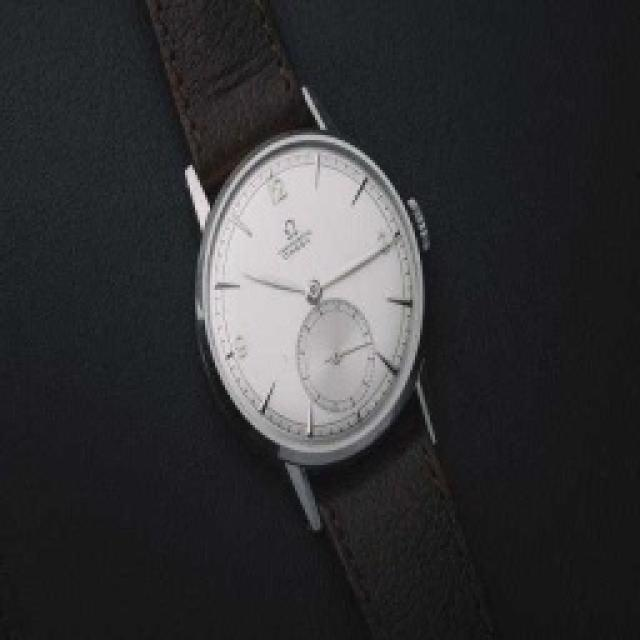saat: (140, 5, 490, 637)
